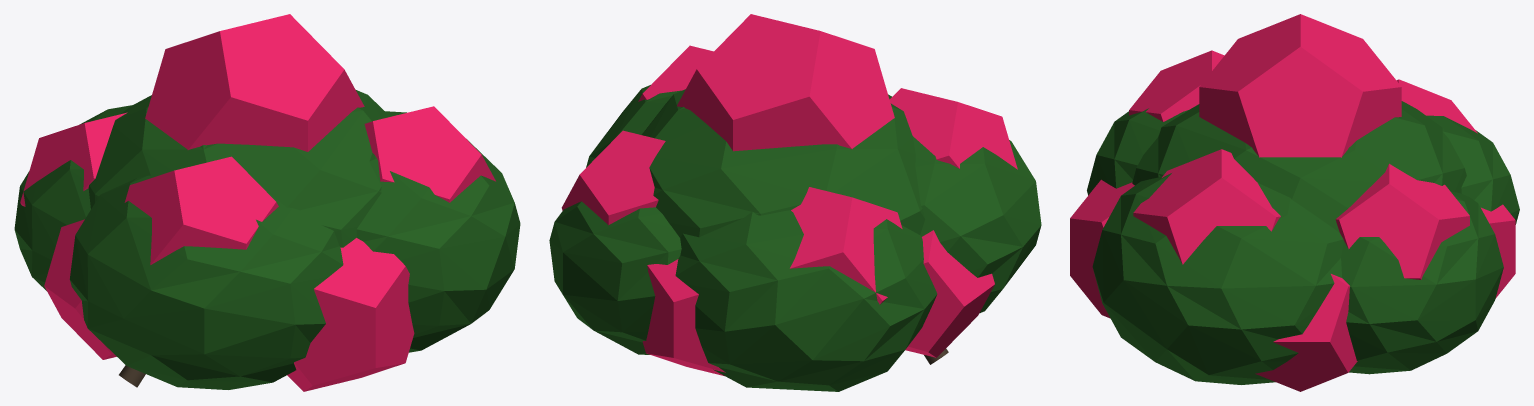
File: bougainvillea_bush.glb
The picture shows the model from 3 angles, left to right: view 1: azimuth 30°, elevation 25°; view 2: azimuth 150°, elevation 25°; view 3: azimuth 270°, elevation 25°; orthographic projection. The views are drawn at different scales.
Visible parts, largest first — view 1: Foliage, Flowers; view 2: Foliage, Flowers; view 3: Foliage, Flowers.
Part boxes in pixels (x1=…): Foliage: x1=14, y1=90, x2=520, y2=389; Flowers: x1=20, y1=14, x2=495, y2=391; Foliage: x1=549, y1=85, x2=1041, y2=391; Flowers: x1=561, y1=14, x2=1017, y2=376; Foliage: x1=1087, y1=101, x2=1519, y2=384; Flowers: x1=1070, y1=14, x2=1515, y2=391.
Bounding box in the file's own units: 2.34 × 1.74 × 2.28.
